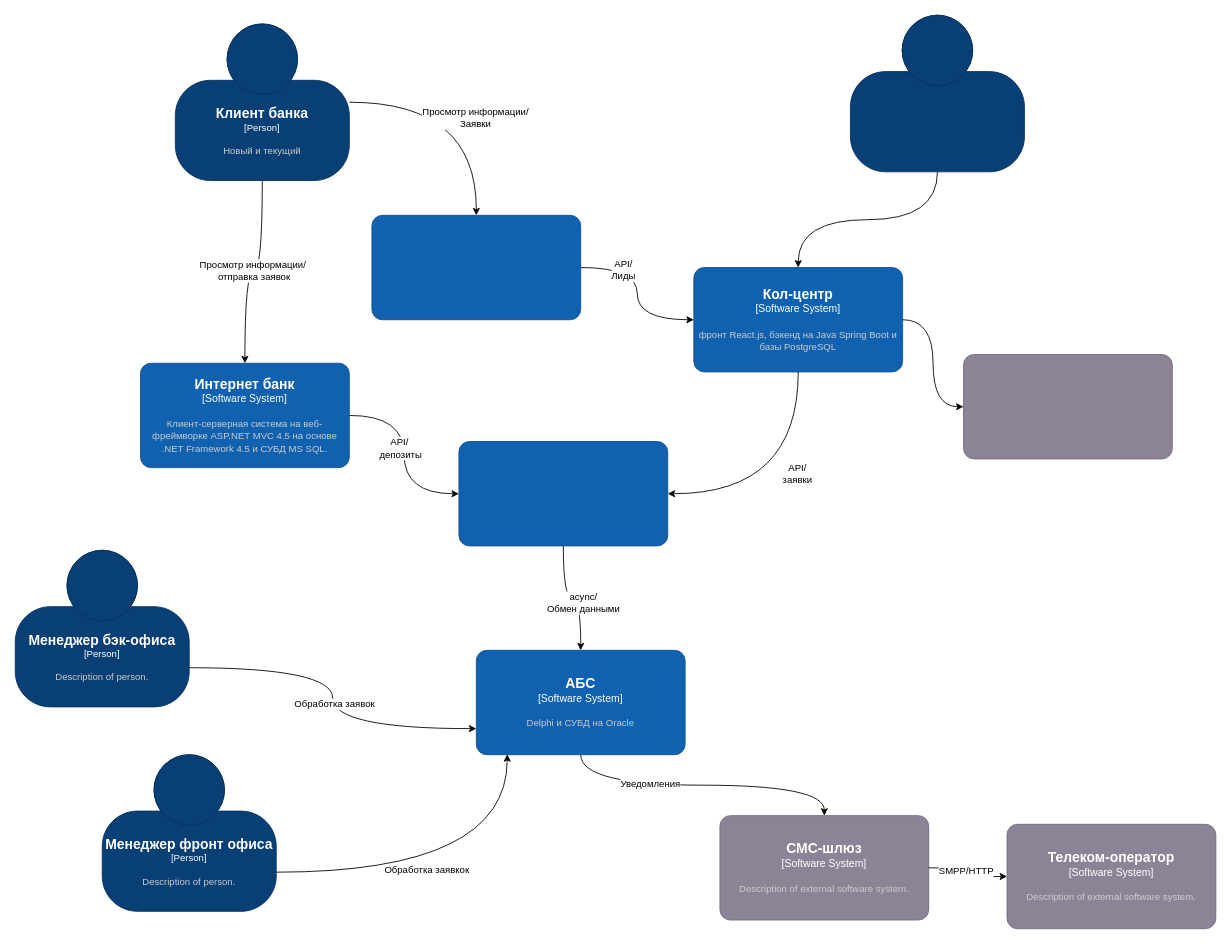
Some shapes in this 1231 by 944 pixel diagram are drawn without their labels. The shapes that lost their labels are listed below. From the top down, each one's centre as x and y in pixels, then its label:
At [937,93]: "Оператор кол-центра [Person] Description of person.".
At [476,267]: "Сайт [Software System] PHP и React.js.".
At [1067,406]: "Партнерский кол-центр [Software System] Description of external software system.".
At [563,493]: "Сервис депозитов [Software System] Description of software system.".
